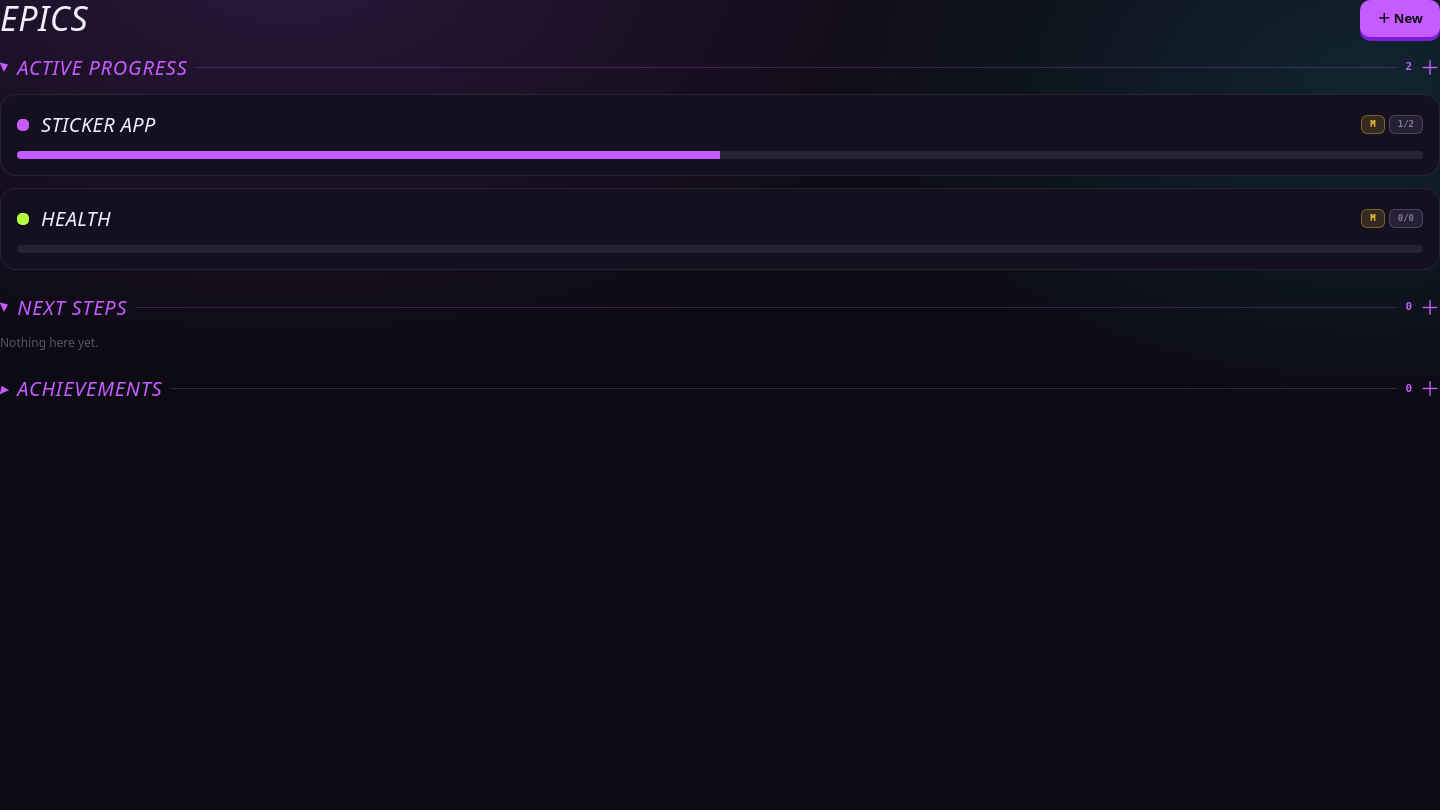
Test: the steps on an epic's task sheet › gates Done here too
The width and height of the screenshot is (1440, 810).
Click the button "Sticker App M 1/2".
click(98, 124)  # box [17, 111, 1423, 139]
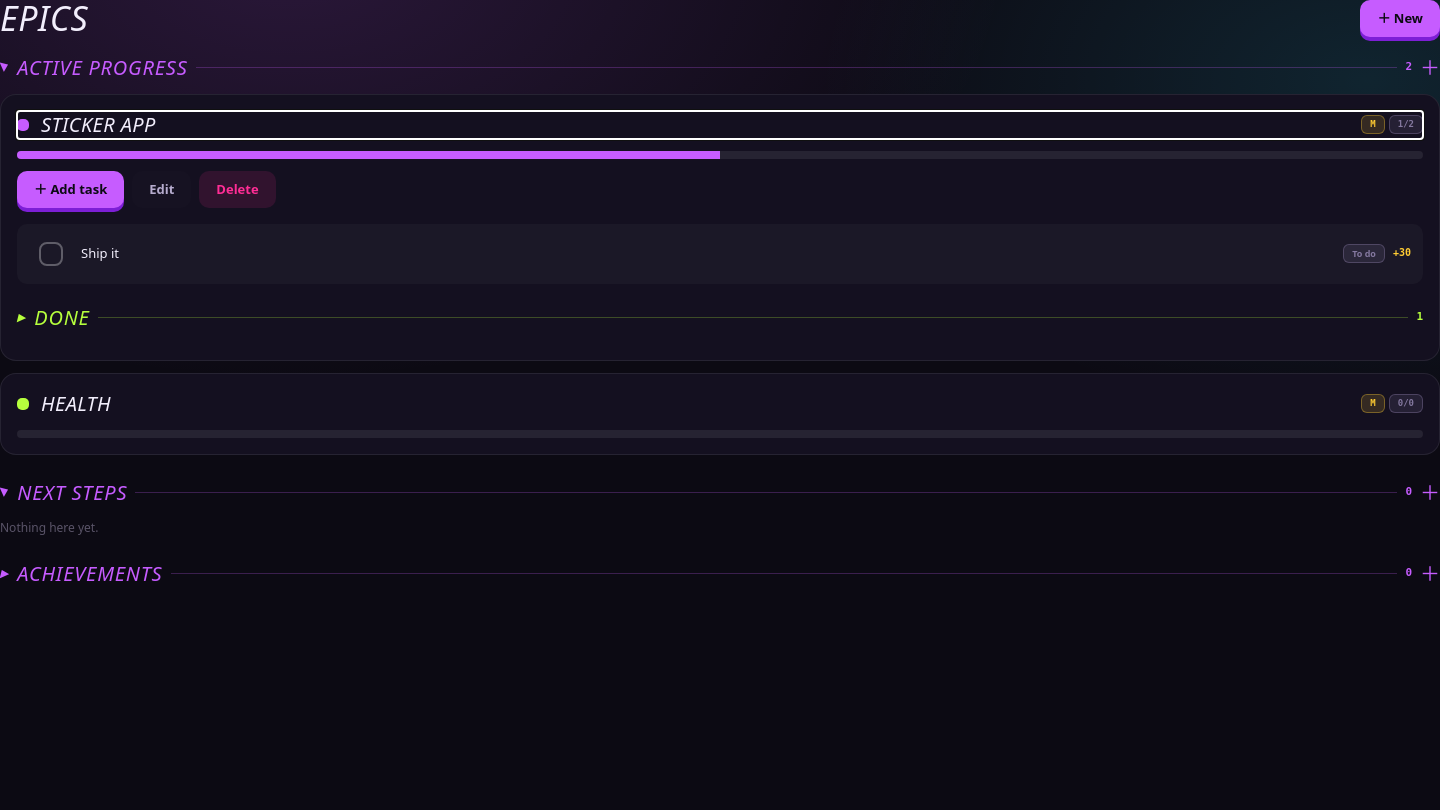
Click the button "Ship it".
click(100, 253)  # box [81, 244, 1335, 263]
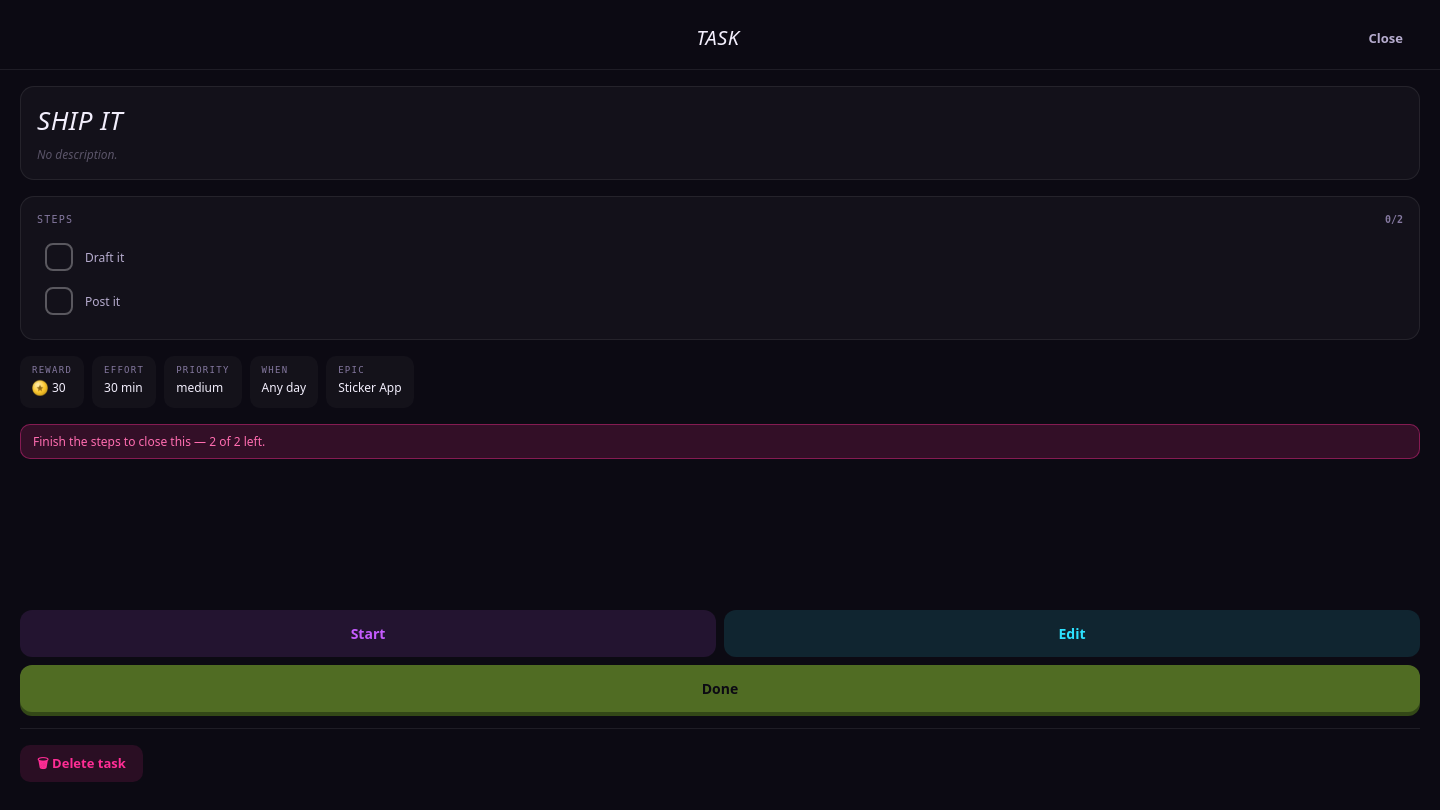
Check: the message shows "2 of 2 left", box [20, 424, 1420, 459]
Check: the button "Done" is disabled, box [20, 665, 1420, 712]
